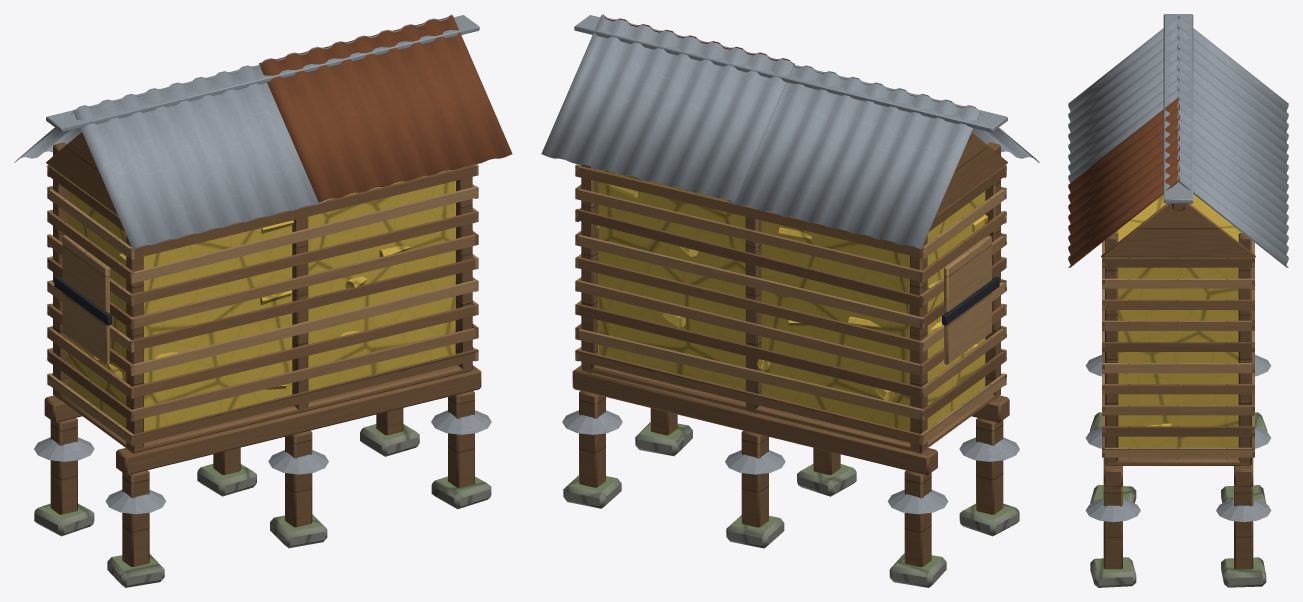
Rendered from corn_crib.glb.
The picture shows the model from 3 angles, left to right: view 1: azimuth 30°, elevation 25°; view 2: azimuth 150°, elevation 25°; view 3: azimuth 270°, elevation 25°; orthographic projection. The views are drawn at different scales.
Visible parts, largest first — view 1: corn_crib; view 2: corn_crib; view 3: corn_crib.
Boxes of the visible parts, <box> form: corn_crib: <box>14,14,512,587</box>; corn_crib: <box>541,14,1039,587</box>; corn_crib: <box>1068,14,1288,587</box>.
Size of the model in its own units: 2.7 by 2.78 by 1.35.
13 materials, 13 textured.
